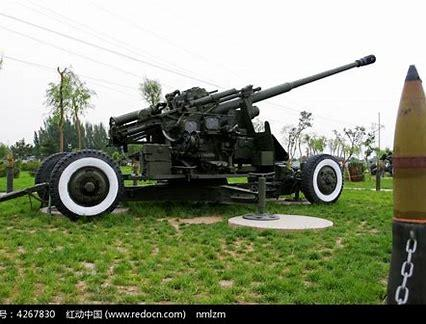MIL_SPG: (35, 55, 375, 218)
